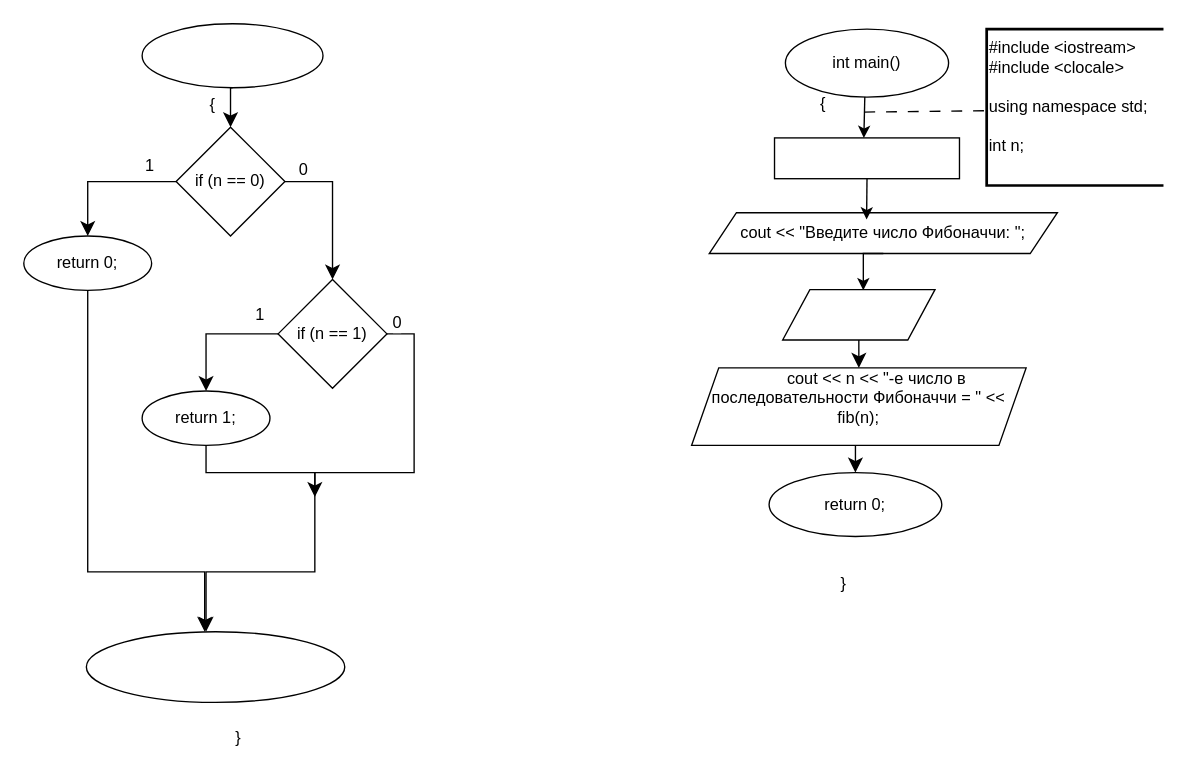
Some shapes in this 1189 by 782 pixel diagram are drawn without their labels. Each missing label, with the centre of its shape:
cin >> n;: [858,314]
int fib(int n): [232,55]
return fib(n - 1) + fib(n - 2);: [215,666]
setlocale(LC_ALL, "ru");: [866,158]
